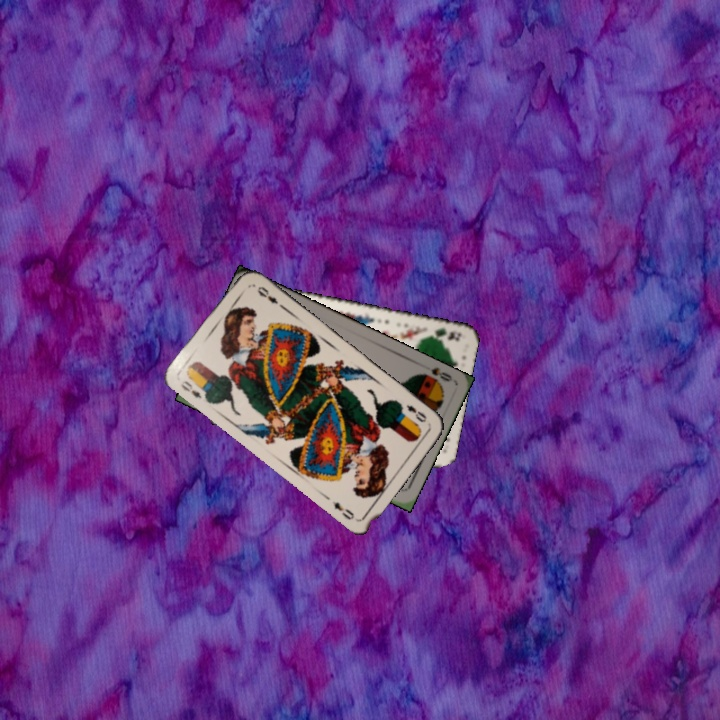EO: (402, 401, 429, 425), (177, 377, 204, 401)
GK: (422, 323, 464, 344)
SO: (426, 363, 455, 384)
